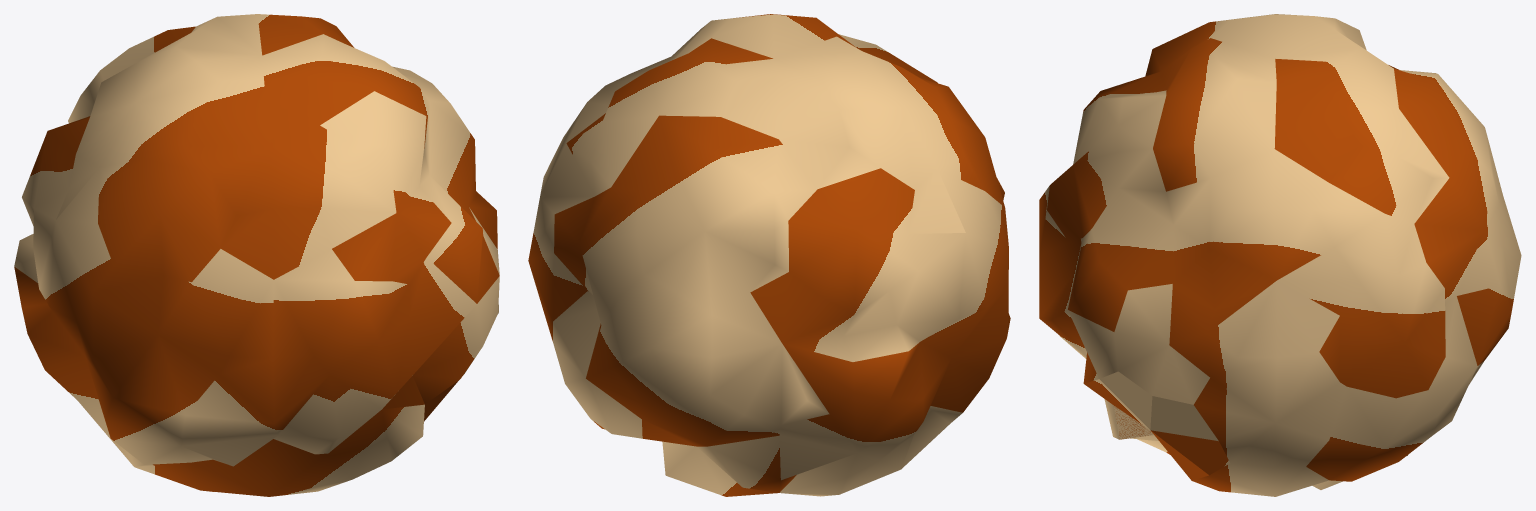
File: Ball_RockBoulder_Collider_Sphere.glb
3 views of the same model, side by side, from view 1: azimuth 30°, elevation 25°; view 2: azimuth 150°, elevation 25°; view 3: azimuth 270°, elevation 25° (orthographic).
Visible parts, largest first — view 1: Ball_RockBoulder_Collider_Sphere; view 2: Ball_RockBoulder_Collider_Sphere; view 3: Ball_RockBoulder_Collider_Sphere.
Boxes of the visible parts, bbox=[...] form: Ball_RockBoulder_Collider_Sphere: bbox=[14, 14, 499, 496]; Ball_RockBoulder_Collider_Sphere: bbox=[528, 14, 1010, 496]; Ball_RockBoulder_Collider_Sphere: bbox=[1039, 14, 1521, 496].
Size of the model in its own units: 4.61 by 4.45 by 4.58.
Materials: 1 (1 with a texture image).
